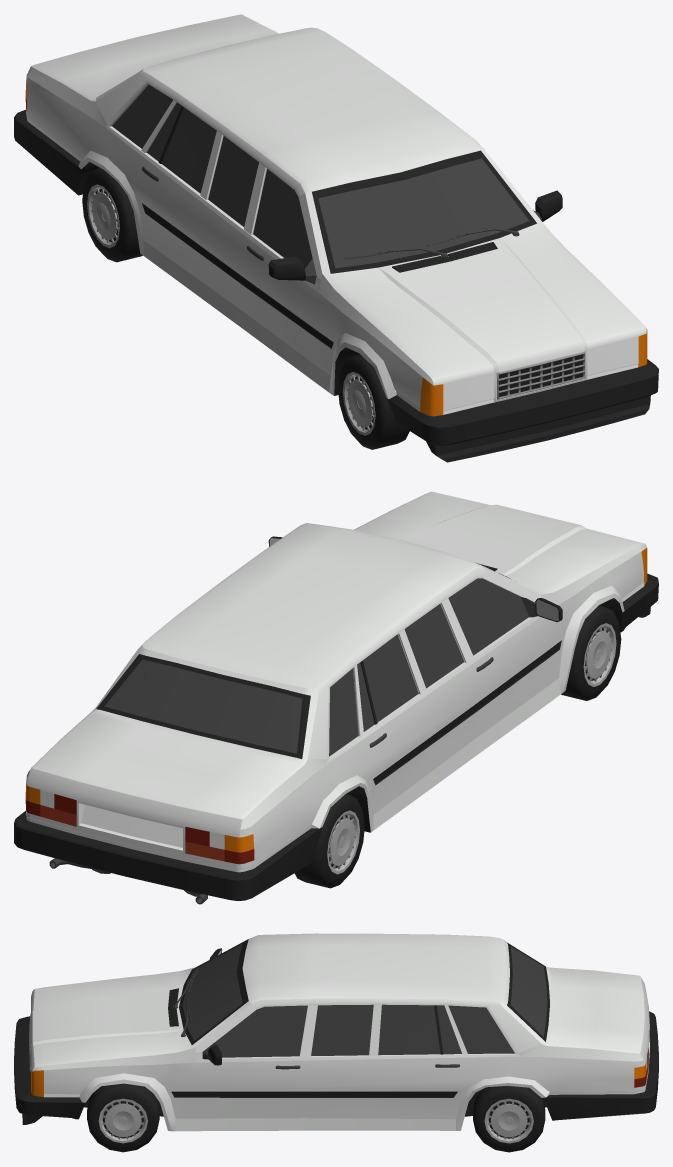
The model's file is car4.fbx.
3 views of the same model, one above another, from view 1: azimuth 30°, elevation 25°; view 2: azimuth 150°, elevation 25°; view 3: azimuth 270°, elevation 25° (orthographic). The views are drawn at different scales.
Visible parts, largest first — view 1: 4.001; view 2: 4.001; view 3: 4.001.
Boxes of the visible parts, bbox=[...] form: 4.001: bbox=[14, 14, 658, 462]; 4.001: bbox=[14, 491, 658, 904]; 4.001: bbox=[14, 933, 658, 1152].
Bounding box in the file's own units: 213 × 136 × 541.
1 material, 1 textured.
